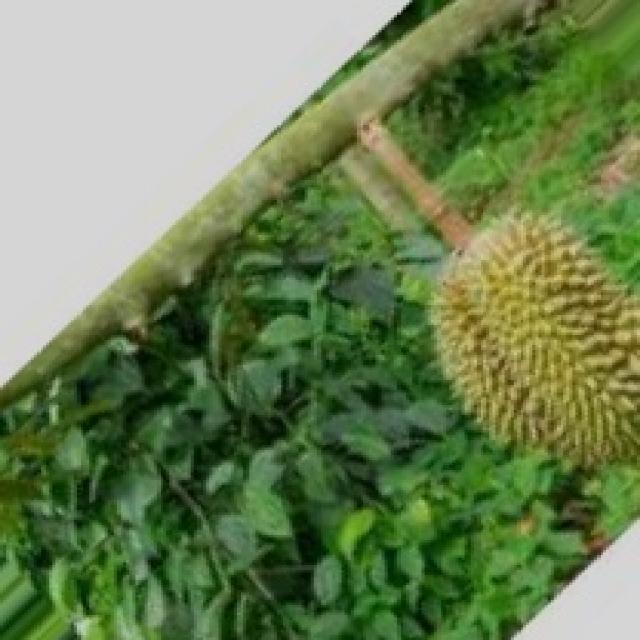fruit: (406, 187, 640, 505)
